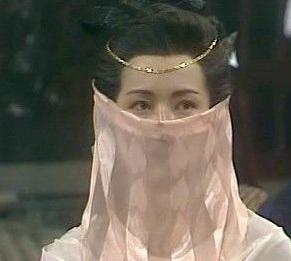OK: (121, 82, 214, 175)
